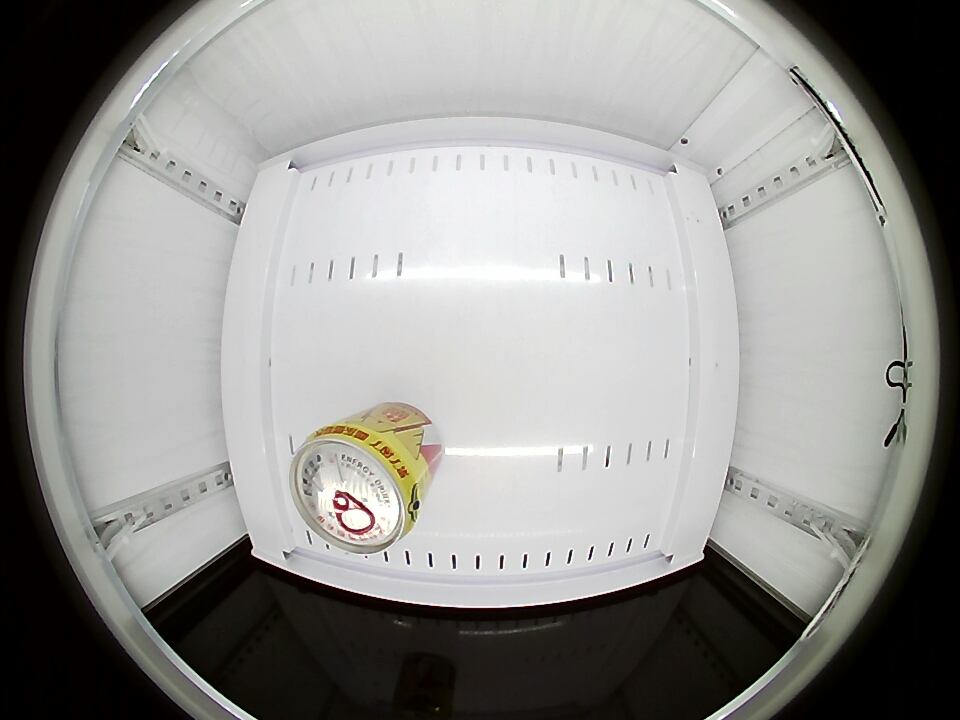dongpeng: (290, 421, 422, 557)
